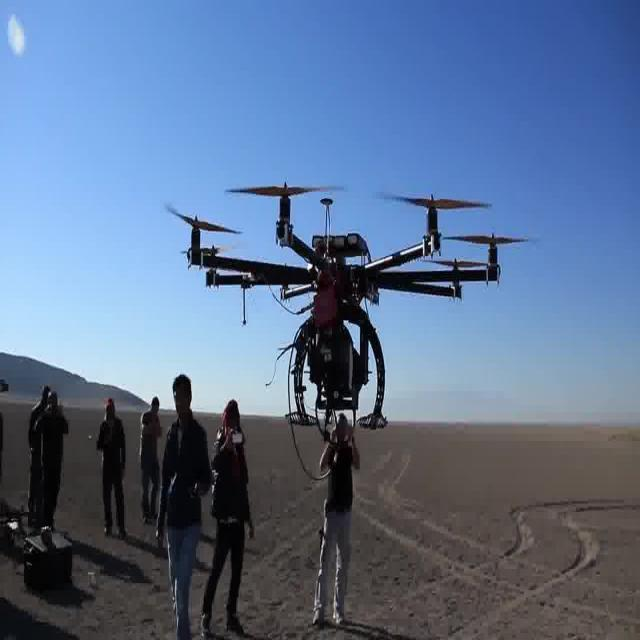drone: (160, 138, 640, 486)
